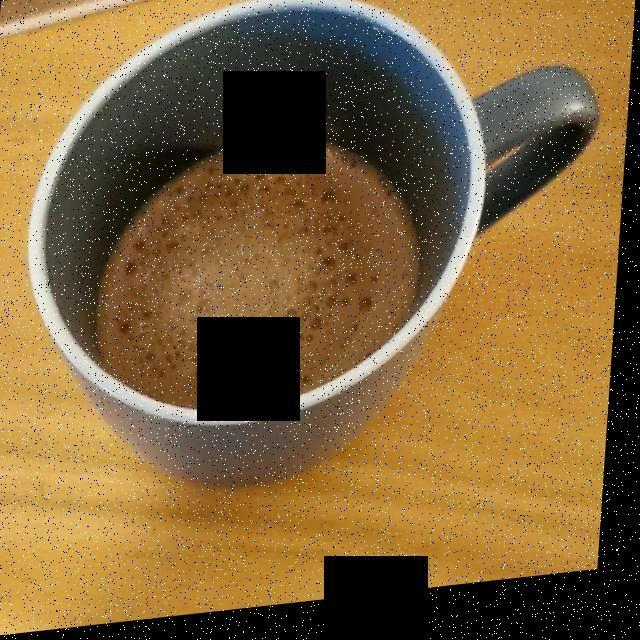coffee: (103, 142, 418, 407)
